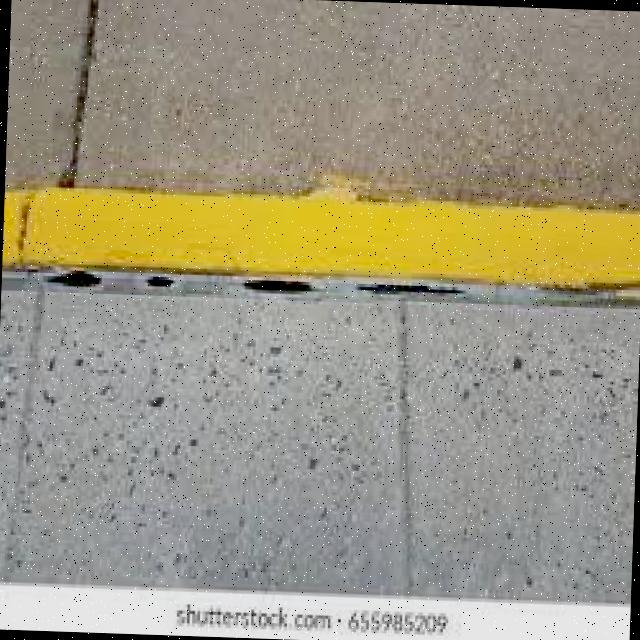curb: (22, 189, 640, 285)
